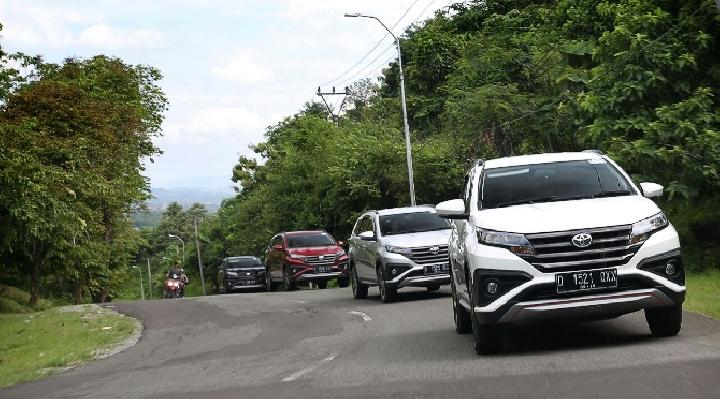plate: (555, 268, 617, 295)
